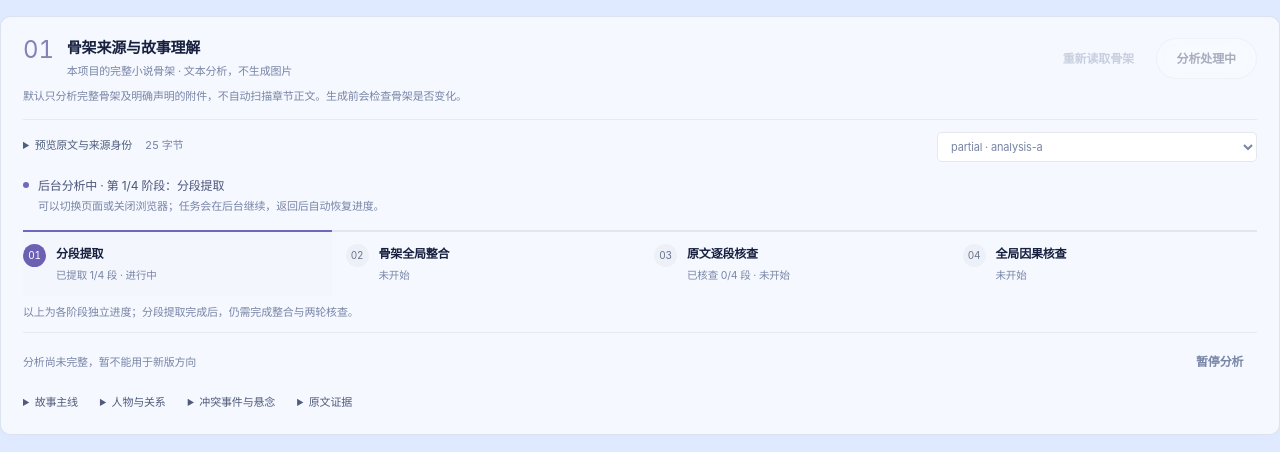
Test: pause acceptance keeps polling and blocks resume until in-flight results are durably saved
The image size is (1280, 452).
Step 1. Click the button "暂停分析" → point(1220, 362), box [1182, 344, 1257, 380]
Wait 5000 ms
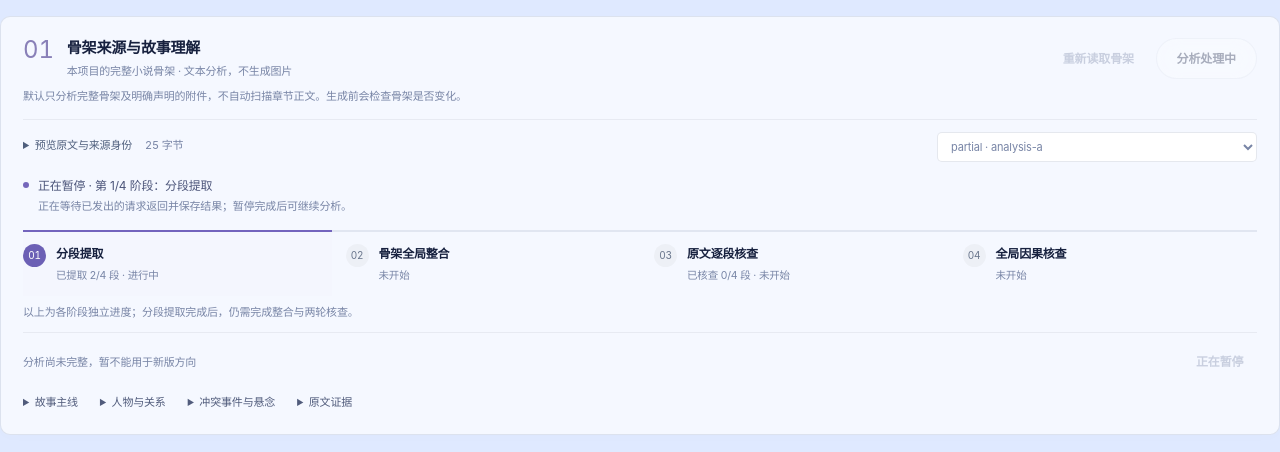
Expected: the button "继续未完成分析" is not shown
Expected: the list item "01 分段提取 已提取 2/4 段 · 进行中" is shown, [23, 230, 332, 296]
Expected: the button "正在暂停" is disabled
Step 2. Click the button "正在暂停" → point(1220, 362), box [1182, 344, 1257, 380]
Wait 5000 ms
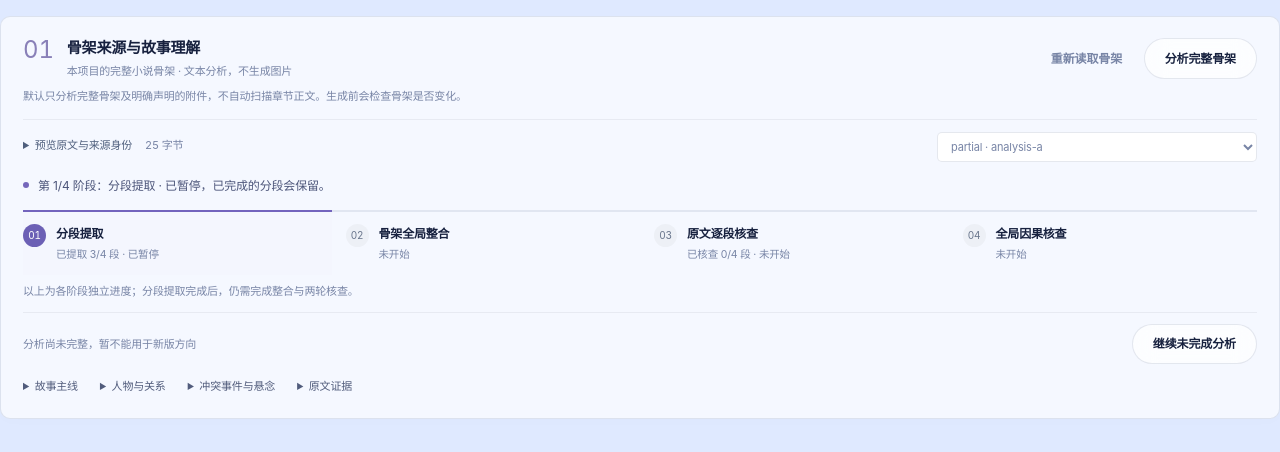
Expected: the list item "01 分段提取 已提取 3/4 段 · 已暂停" is shown, [23, 210, 332, 275]
Expected: the button "继续未完成分析" is enabled, [1132, 324, 1257, 364]
Expected: the text "正在暂停" is gone
